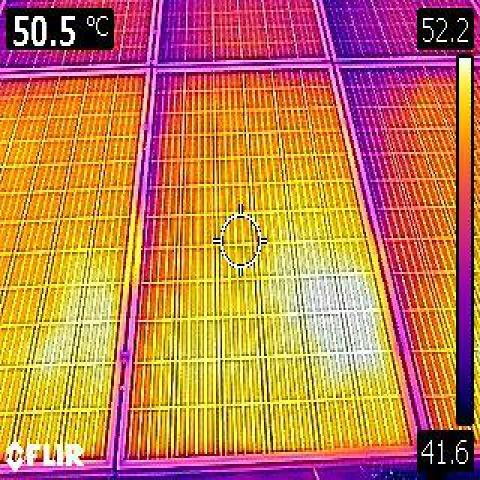fault: (306, 256, 382, 385)
